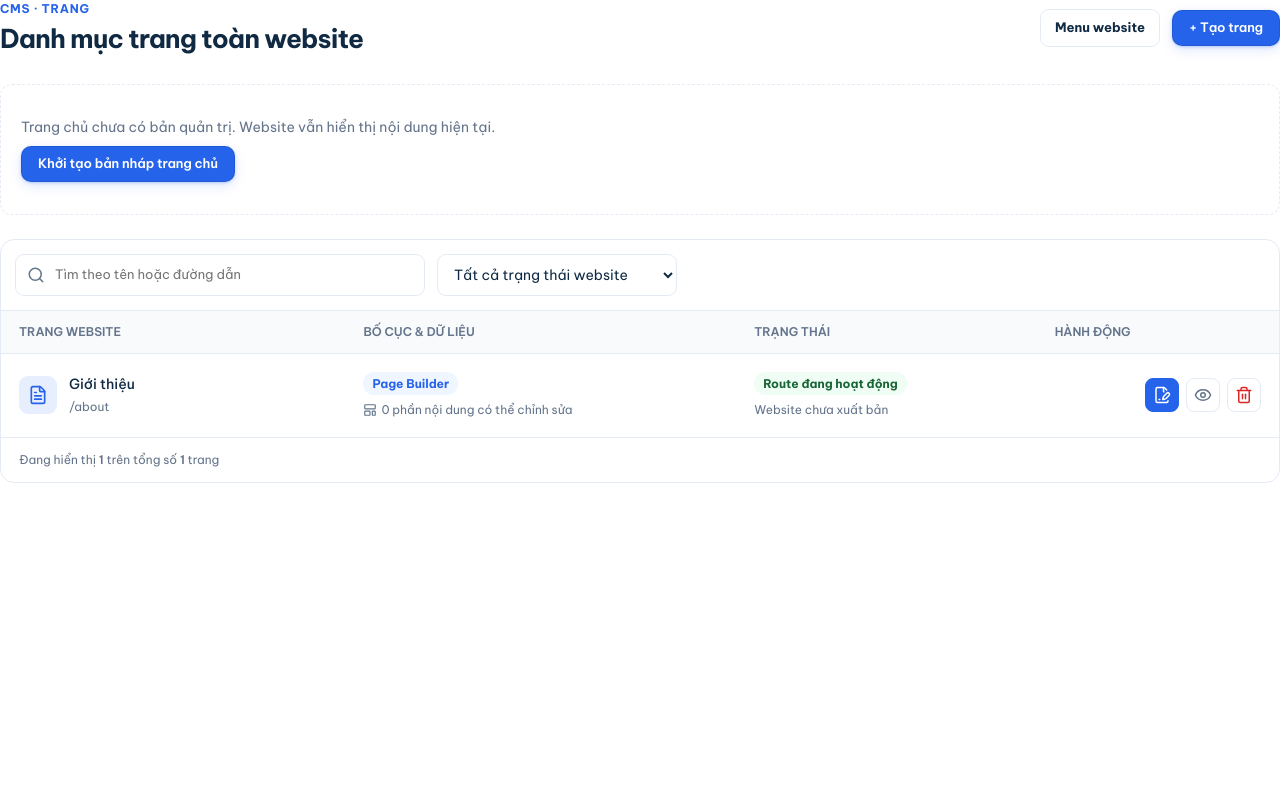
Scenario: site pages admin draft › refreshes the catalog only after confirmed deletion
What coordinates should you click on to do the following:
click the button named "Xóa trang Giới thiệu"
I would click on:
 (1244, 395)
Its box is left=1227, top=378, right=1261, bottom=412.
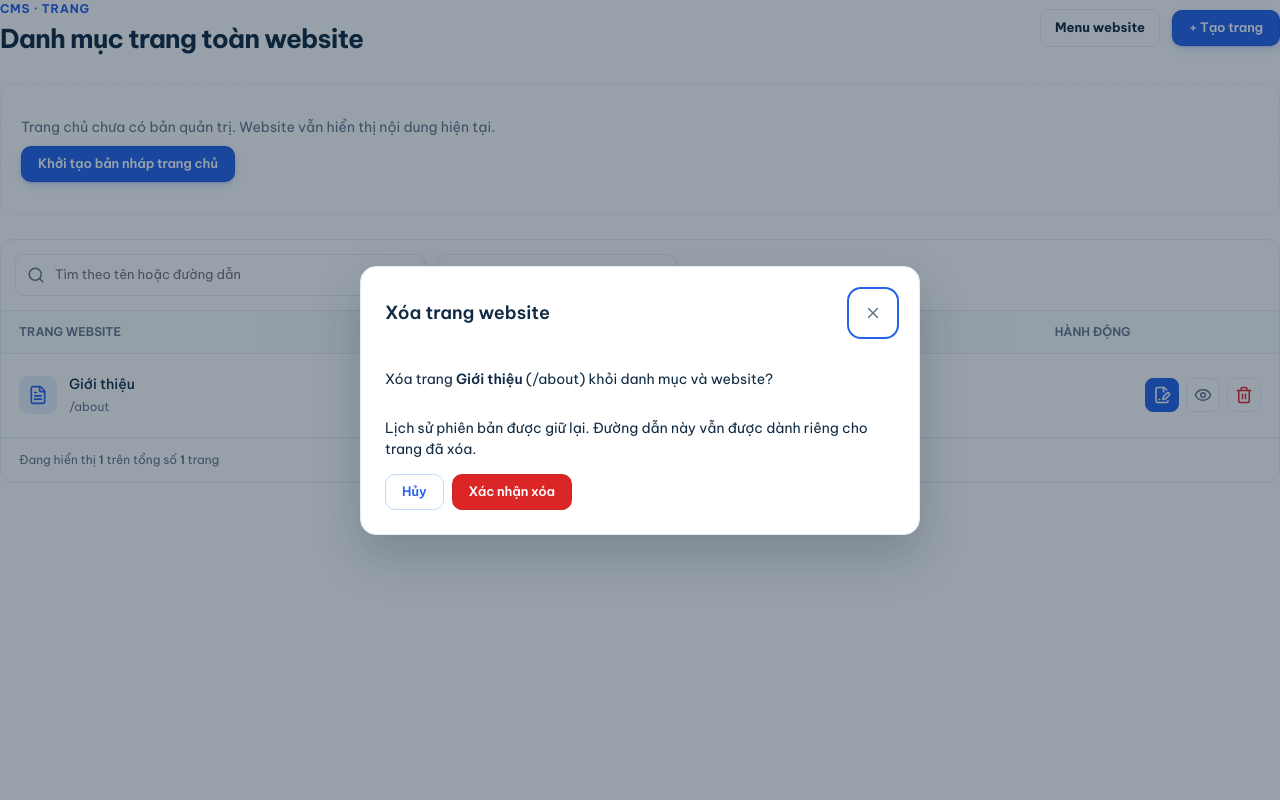
What coordinates should you click on to do the following:
click the button "Xác nhận xóa"
I would click on:
 (512, 492)
Its box is left=452, top=474, right=572, bottom=510.
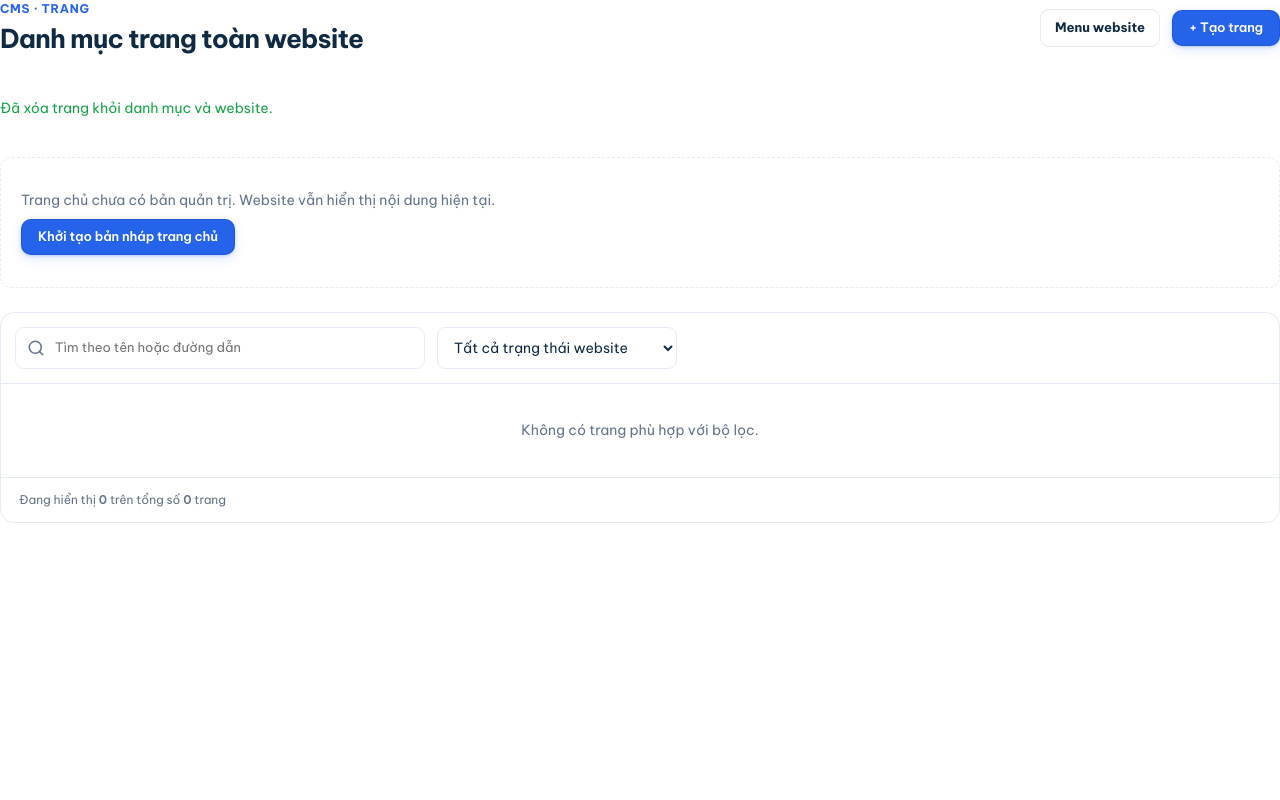
Check: the button "Xóa trang Giới thiệu" is gone
Check: the text "Đã xóa trang khỏi danh mục và website." is shown, box left=0, top=99, right=273, bottom=117
